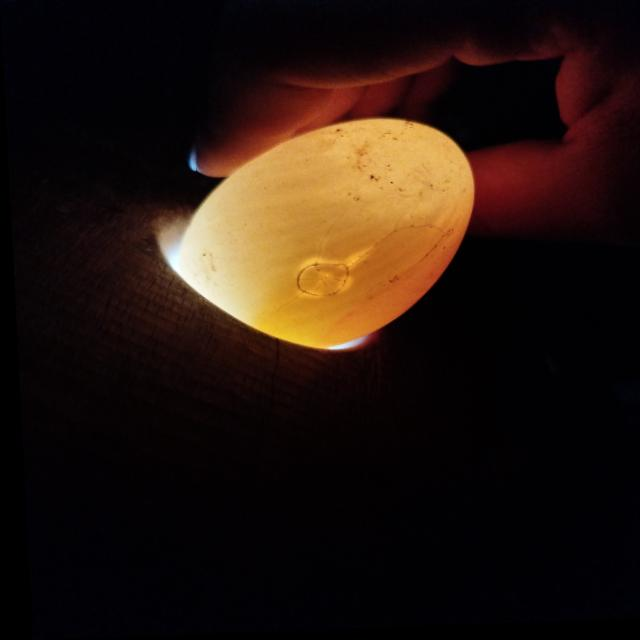Rachadura: (294, 266, 345, 299)
